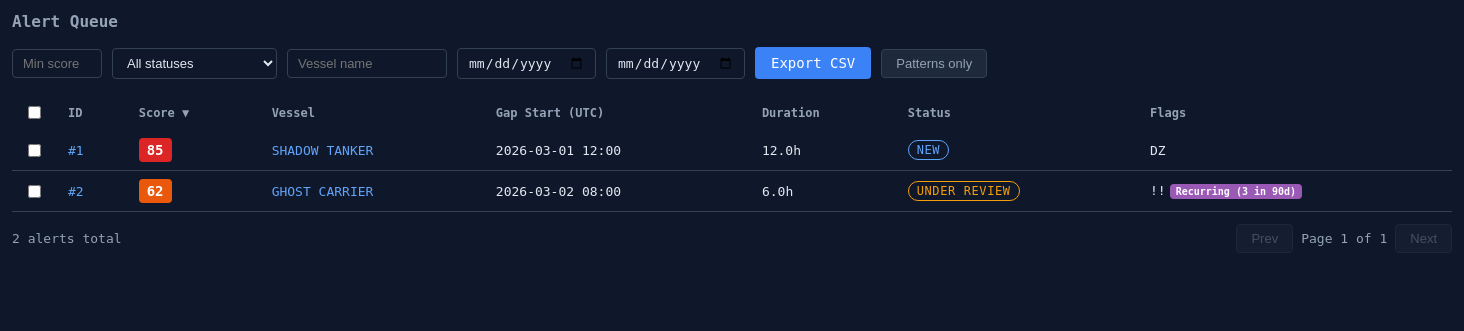
Scenario: AlertList interaction › select-all checkbox selects all rows
// Click header checkbox (first one)
Click the checkbox next to "ID".
click(34, 112)  # box [28, 106, 41, 119]
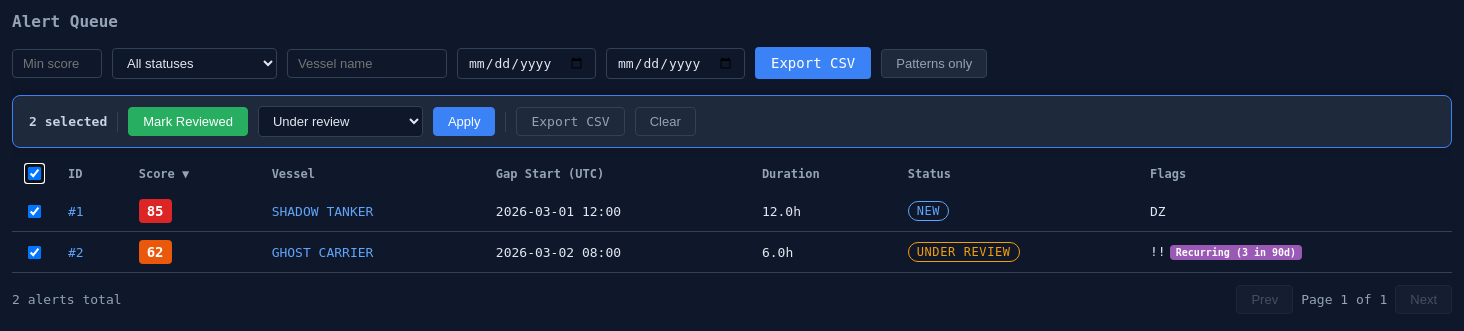
expect the text "2 selected" is shown: met, box [29, 114, 107, 129]
